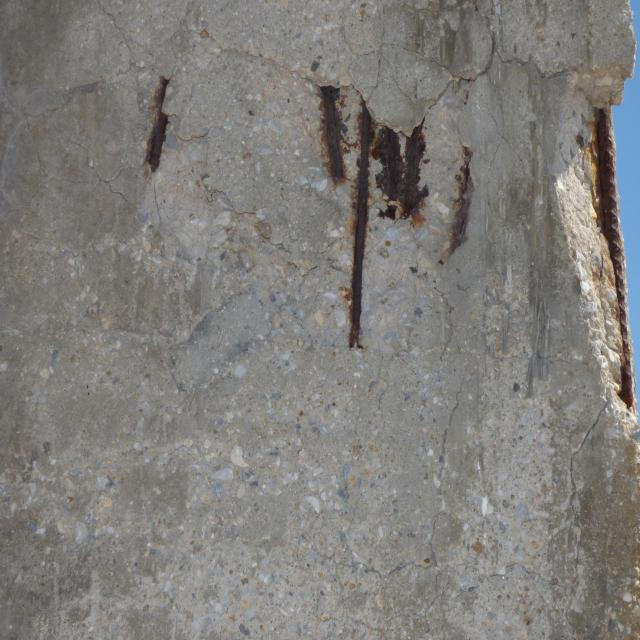corrosion: (306, 64, 481, 357), (574, 92, 639, 417), (136, 56, 180, 190)
